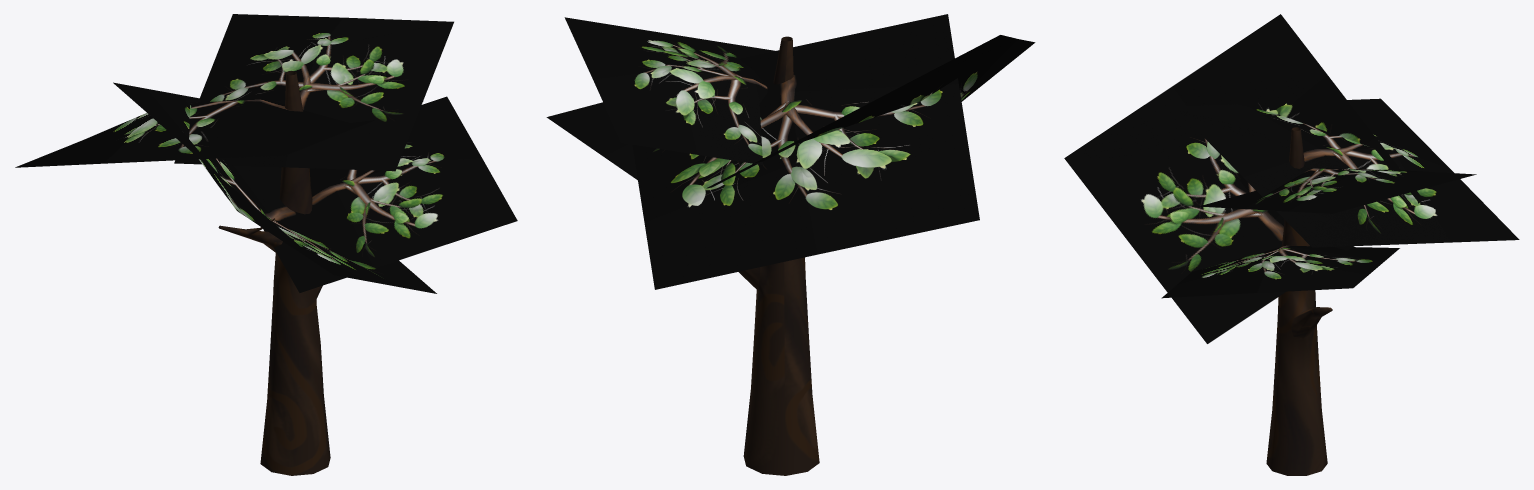
The model's file is TestTree.fbx.
3 views of the same model, side by side, from view 1: azimuth 30°, elevation 25°; view 2: azimuth 150°, elevation 25°; view 3: azimuth 270°, elevation 25° (orthographic). The views are drawn at different scales.
Visible parts, largest first — view 1: Plane.004; view 2: Plane.004; view 3: Plane.004.
Boxes of the visible parts, x1,y1,x2,y2 form: Plane.004: (15,14,517,475); Plane.004: (546,14,1035,475); Plane.004: (1064,14,1519,475).
Size of the model in its own units: 414 by 410 by 459.
2 materials, 2 textured.
